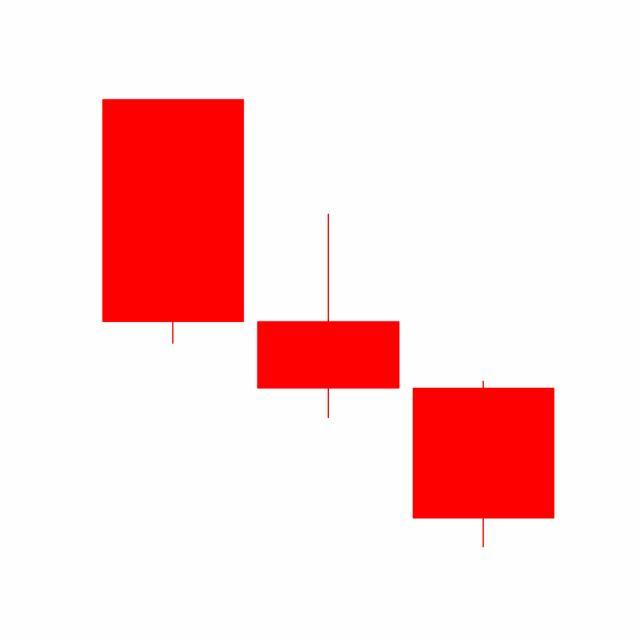Marubozu: (406, 379, 562, 551)
